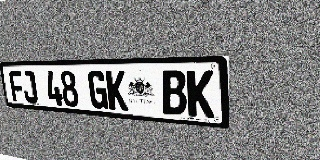4: (44, 71, 63, 106)
8: (59, 71, 79, 107)
B: (161, 70, 187, 116)
F: (8, 71, 25, 102)
G: (87, 70, 109, 109)
J: (21, 71, 38, 104)
K: (187, 70, 214, 118), (106, 70, 128, 111)
